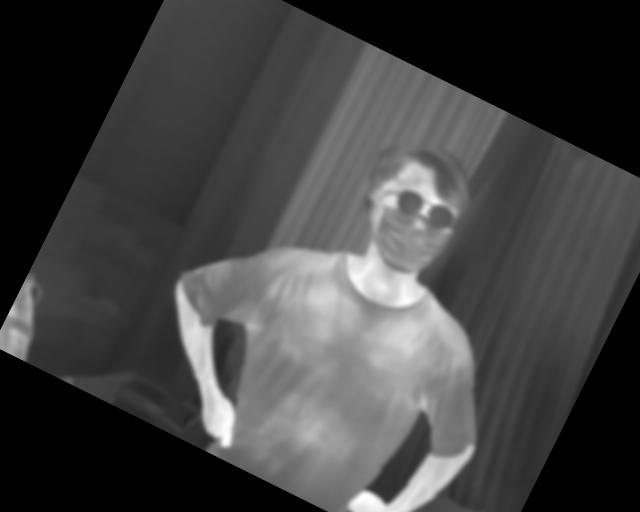face: (334, 124, 489, 290)
